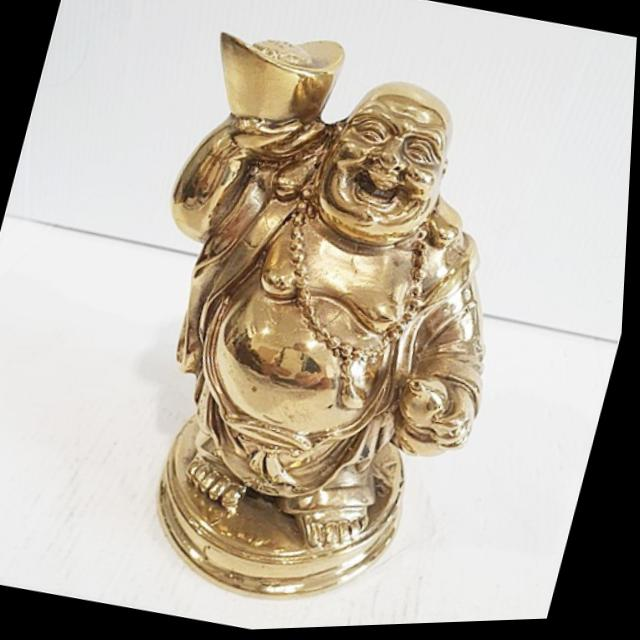Smiling Buddha: (147, 42, 508, 491)
